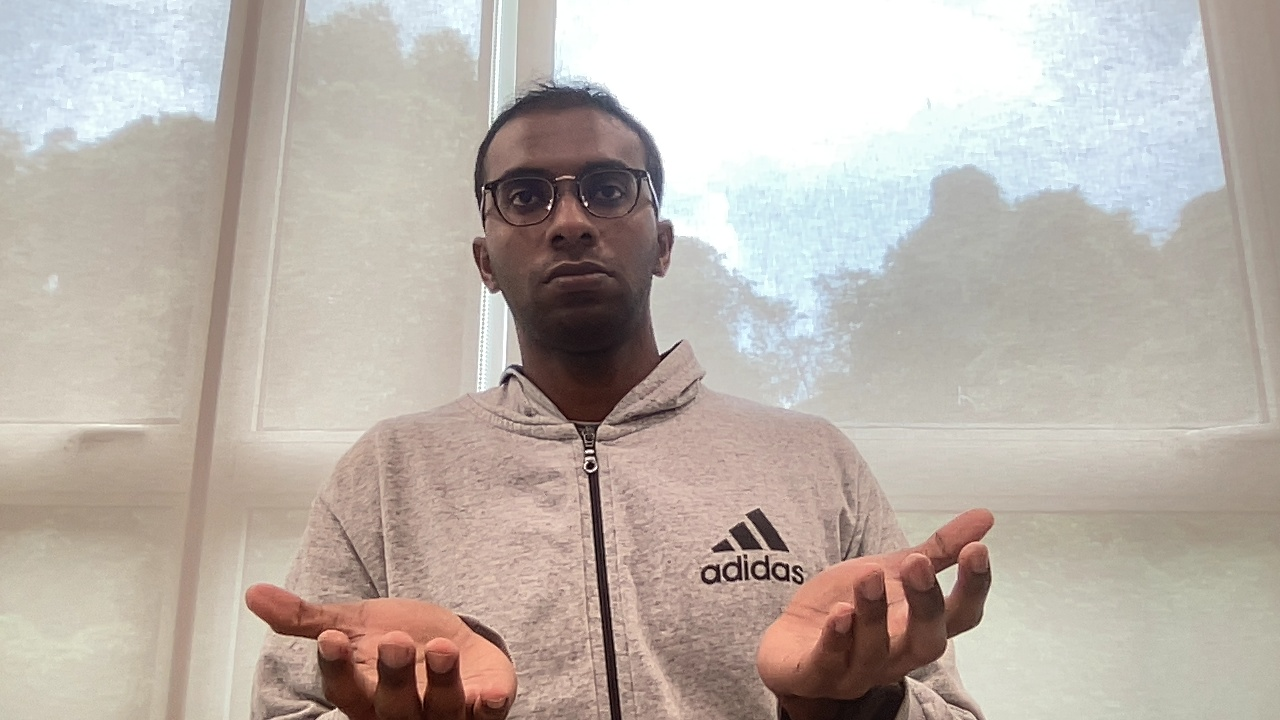give: (242, 500, 1002, 720)
